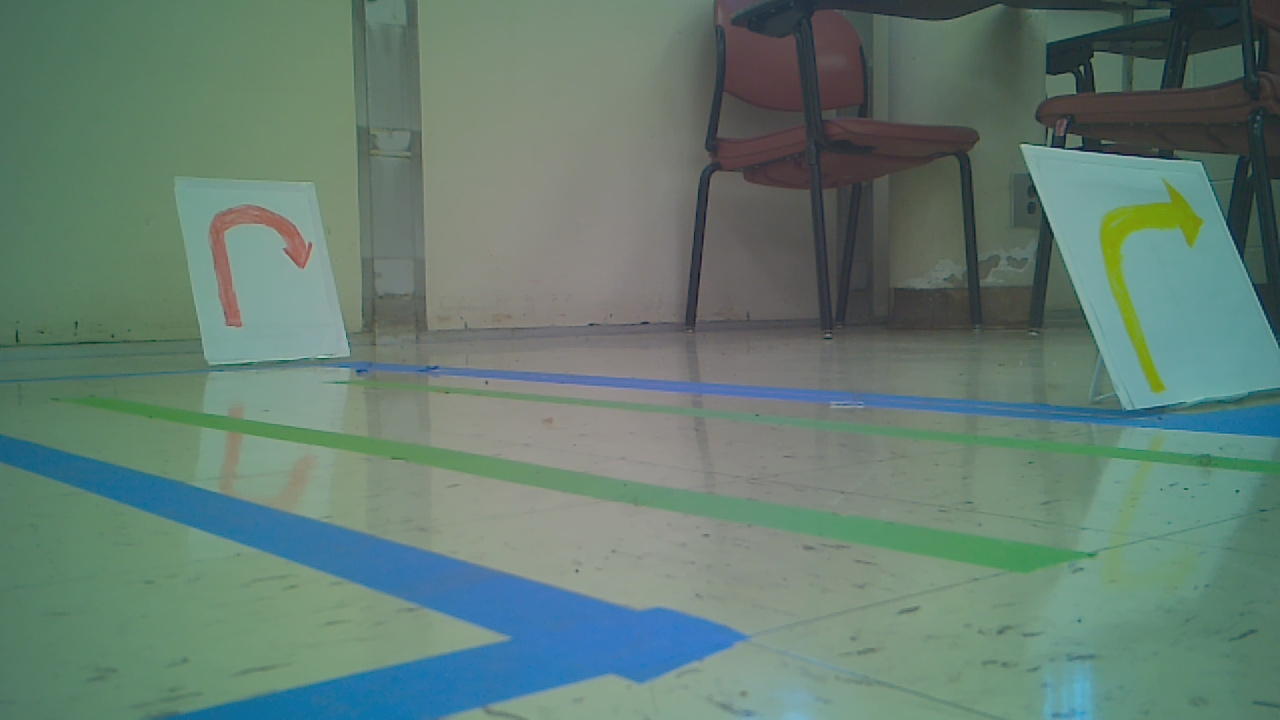greenline: (43, 395, 1095, 585)
right: (1027, 142, 1275, 395)
uturn: (205, 201, 319, 329)
